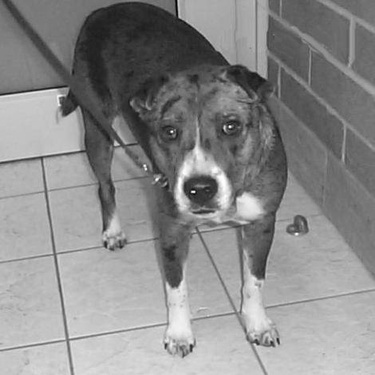dog: (61, 1, 290, 360)
